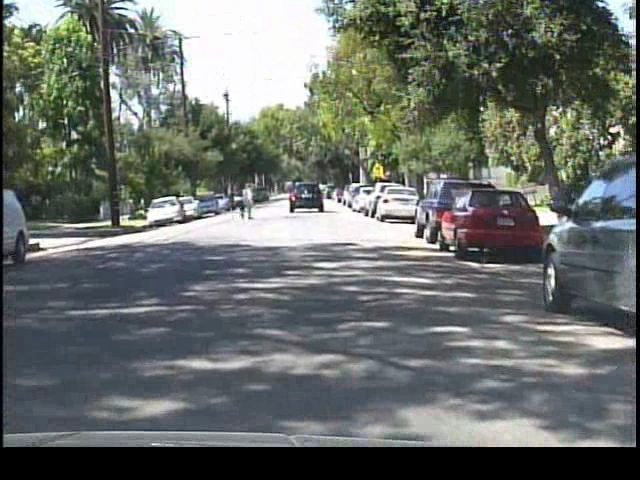person: (235, 168, 259, 213)
